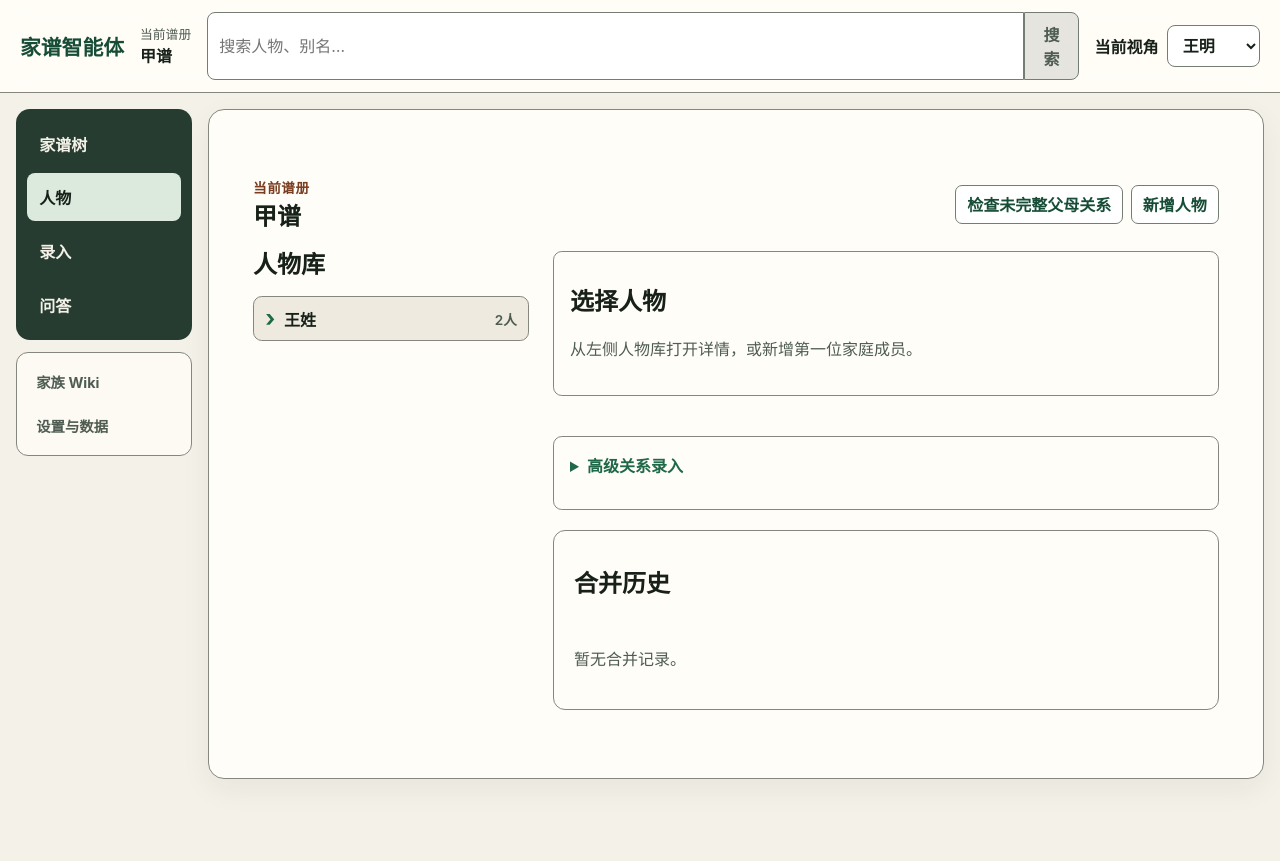
it: complete application shell › opens a person-scoped question from the person detail quick actions
Click the button with aria-label "王姓（2人）": click(300, 320) x1=253 y1=296 x2=529 y2=341
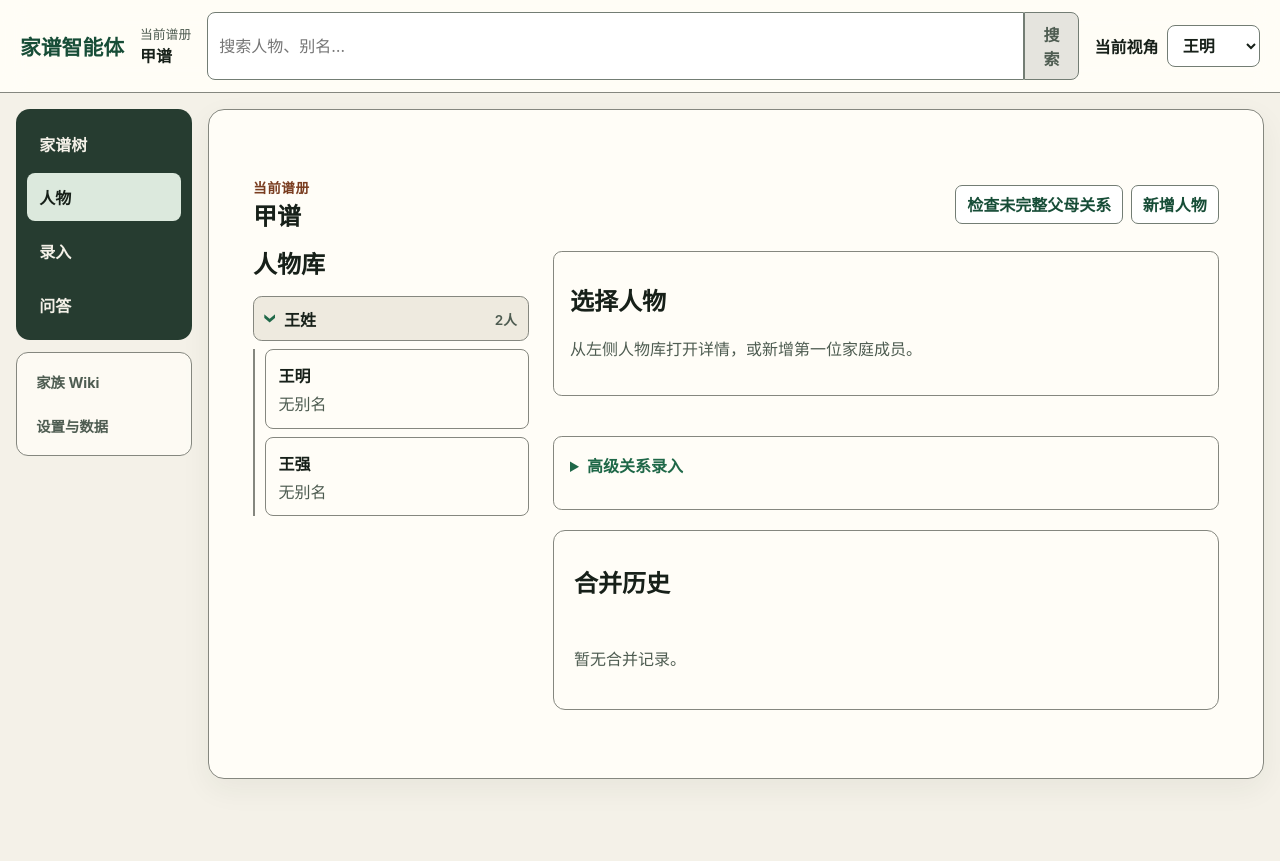
Click the button with aria-label "查看王强": click(294, 464) x1=265 y1=437 x2=529 y2=516
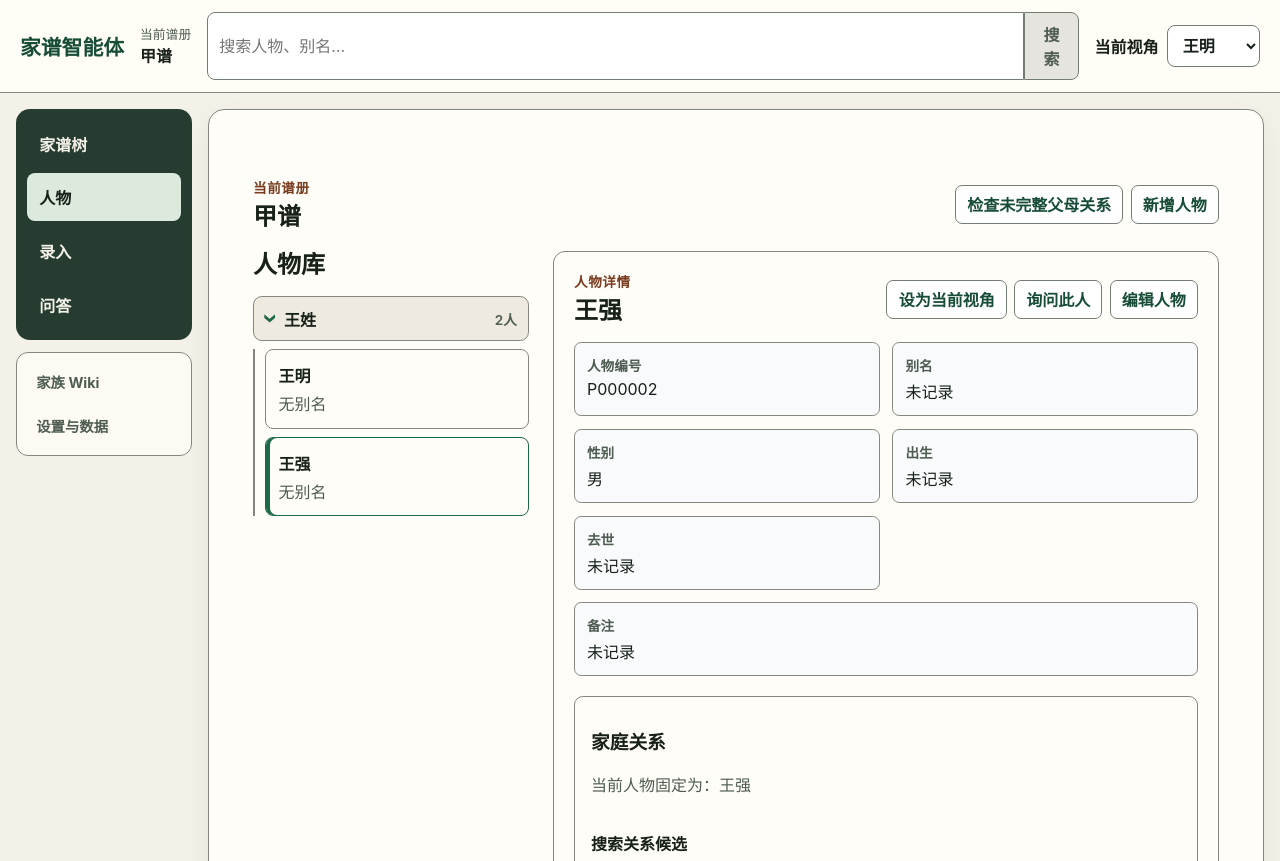
Click the button "设为当前视角": click(947, 299) x1=886 y1=280 x2=1007 y2=319
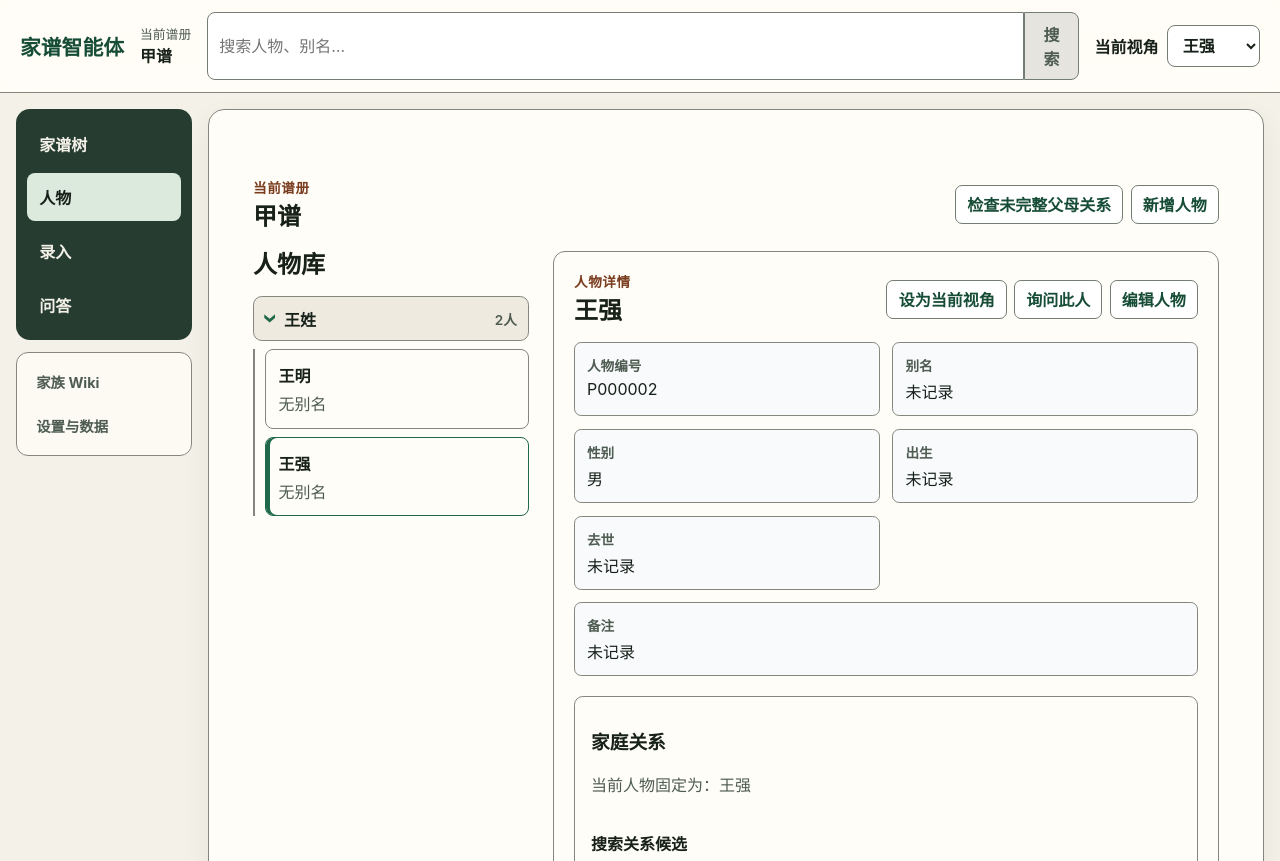
Expected: the dropdown named "共享当前视角" shows "王强", x1=1167 y1=25 x2=1260 y2=67
Click the button "询问此人": click(1058, 299) x1=1014 y1=280 x2=1102 y2=319
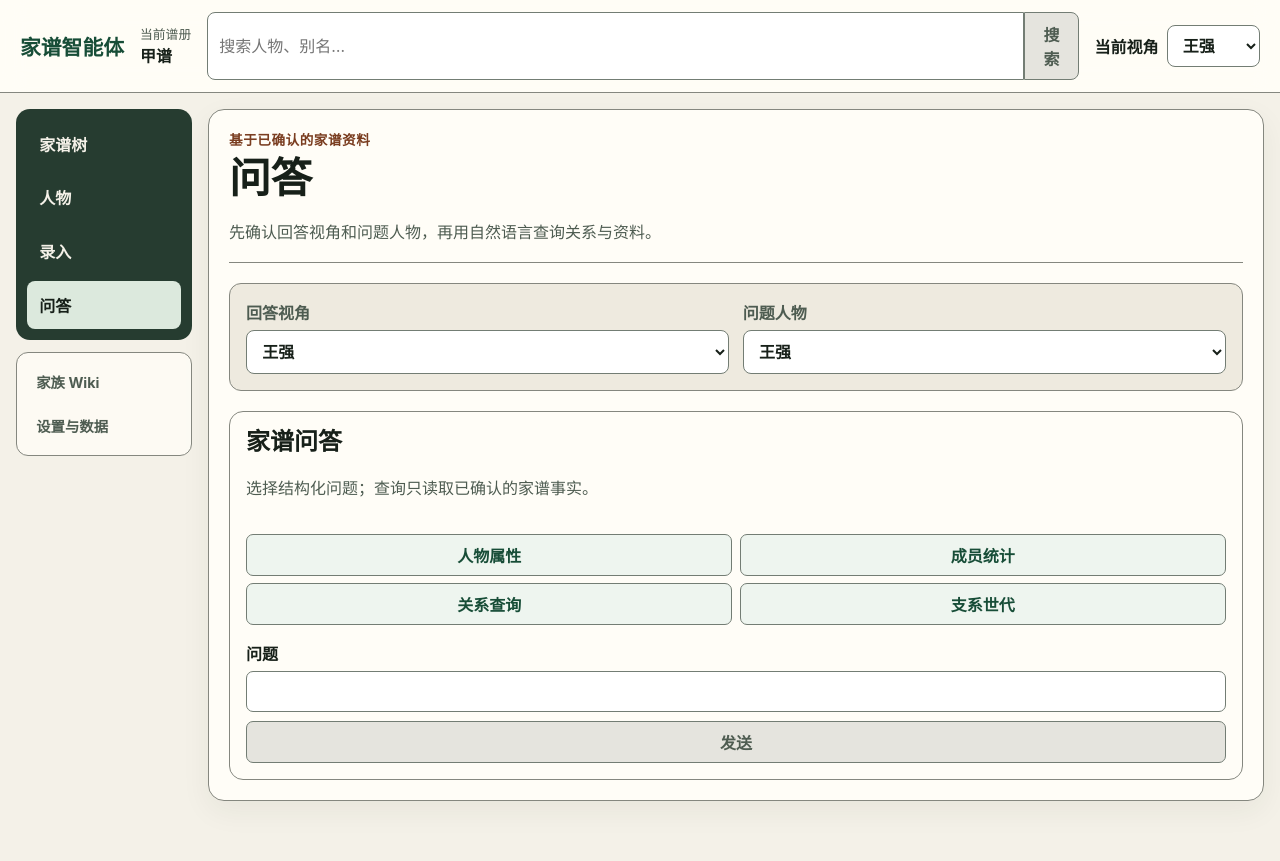
Expected: the dropdown labelled "问题人物" shows "王强", x1=743 y1=330 x2=1226 y2=374
Expected: the dropdown labelled "回答视角" shows "王强", x1=246 y1=330 x2=729 y2=374
